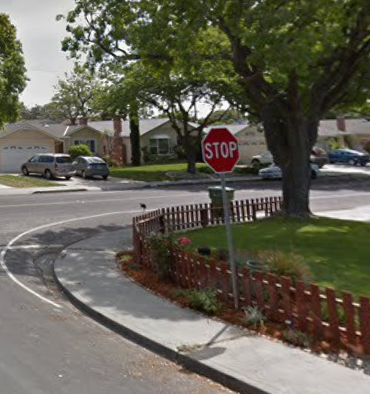stop_sign: (201, 129, 239, 172)
